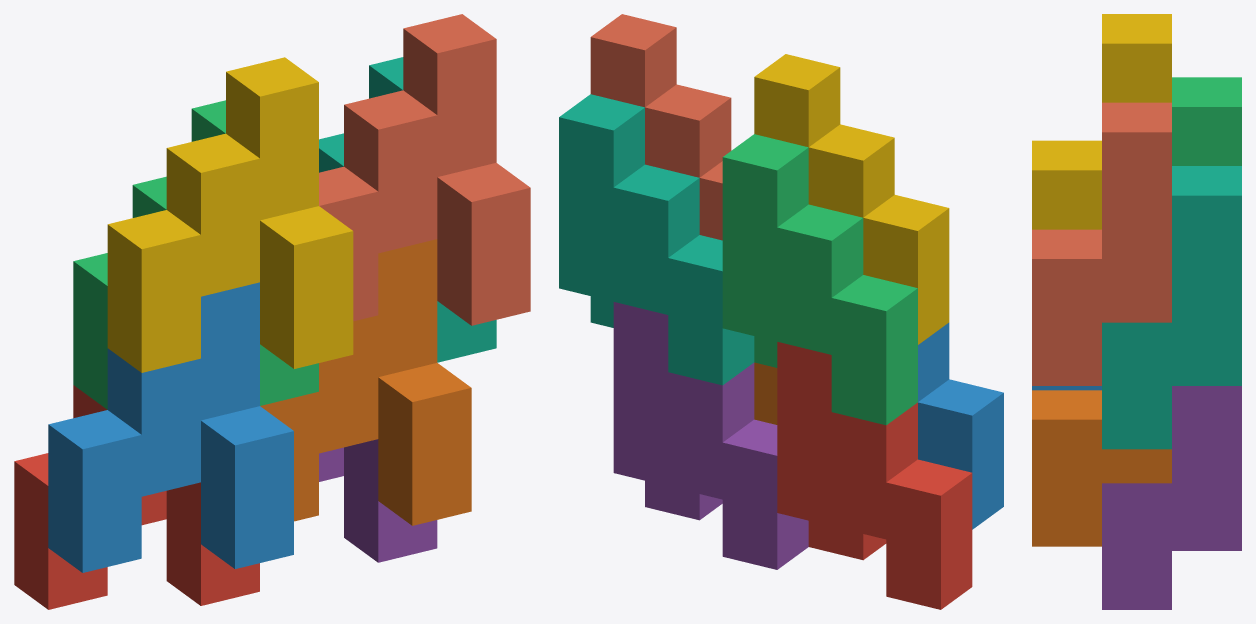
Rendered from tiling.obj.
3 views of the same model, side by side, from view 1: azimuth 30°, elevation 25°; view 2: azimuth 150°, elevation 25°; view 3: azimuth 270°, elevation 25° (orthographic). The views are drawn at different scales.
Parts seen in each view (by area): view 1: copy_1_domain_4, copy_1_domain_2, copy_1_domain_8, copy_1_domain_6, copy_1_domain_1, copy_1_domain_3, copy_1_domain_5, copy_1_domain_7; view 2: copy_1_domain_3, copy_1_domain_7, copy_1_domain_1, copy_1_domain_5, copy_1_domain_4, copy_1_domain_8, copy_1_domain_2, copy_1_domain_6; view 3: copy_1_domain_8, copy_1_domain_7, copy_1_domain_5, copy_1_domain_6, copy_1_domain_4, copy_1_domain_3, copy_1_domain_2.
Boxes of the visible parts, bbox=[...] form: copy_1_domain_4: bbox=[107, 57, 353, 372]; copy_1_domain_2: bbox=[48, 282, 293, 572]; copy_1_domain_8: bbox=[319, 14, 530, 325]; copy_1_domain_6: bbox=[260, 239, 471, 525]; copy_1_domain_1: bbox=[14, 385, 259, 609]; copy_1_domain_3: bbox=[73, 100, 318, 409]; copy_1_domain_5: bbox=[319, 439, 437, 562]; copy_1_domain_7: bbox=[319, 57, 496, 362]; copy_1_domain_3: bbox=[722, 134, 917, 425]; copy_1_domain_7: bbox=[559, 94, 754, 385]; copy_1_domain_1: bbox=[777, 342, 972, 609]; copy_1_domain_5: bbox=[613, 302, 808, 569]; copy_1_domain_4: bbox=[754, 54, 949, 344]; copy_1_domain_8: bbox=[590, 14, 731, 240]; copy_1_domain_2: bbox=[918, 322, 1003, 529]; copy_1_domain_6: bbox=[754, 362, 777, 424]; copy_1_domain_8: bbox=[1032, 102, 1171, 385]; copy_1_domain_7: bbox=[1102, 166, 1241, 449]; copy_1_domain_5: bbox=[1102, 386, 1241, 609]; copy_1_domain_6: bbox=[1032, 390, 1171, 546]; copy_1_domain_4: bbox=[1032, 14, 1171, 229]; copy_1_domain_3: bbox=[1172, 77, 1241, 165]; copy_1_domain_2: bbox=[1032, 386, 1101, 390].
Size of the model in its own units: 7 by 8 by 3.
